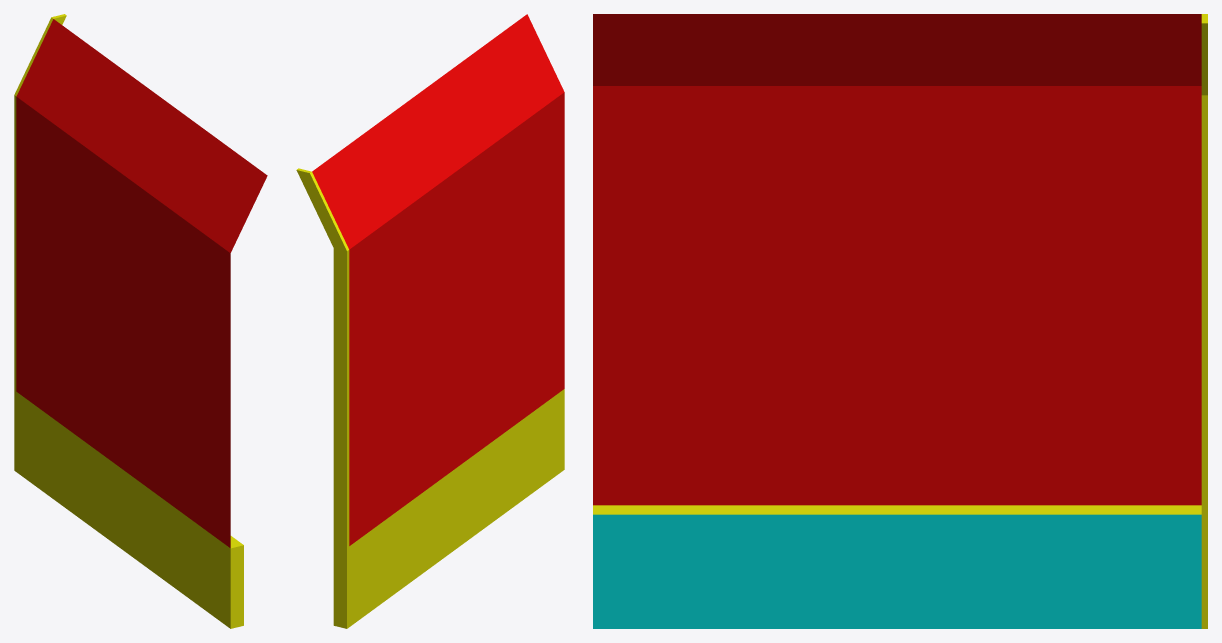
Rendered from Side_Fence.fbx.
The picture shows the model from 3 angles, left to right: view 1: azimuth 30°, elevation 25°; view 2: azimuth 150°, elevation 25°; view 3: azimuth 270°, elevation 25°; orthographic projection. The views are drawn at different scales.
Parts seen in each view (by area): view 1: Side_Fence1; view 2: Side_Fence1; view 3: Side_Fence1.
Part boxes in pixels (x1=…): Side_Fence1: x1=14, y1=14, x2=267, y2=628; Side_Fence1: x1=296, y1=14, x2=564, y2=628; Side_Fence1: x1=593, y1=14, x2=1207, y2=628.
Bounding box in the file's own units: 9.79 × 82.41 × 72.75.
